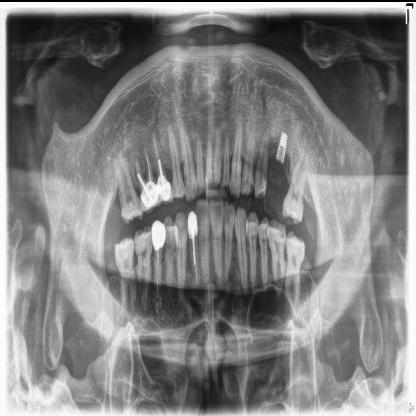Bicon: (275, 126, 290, 164)
